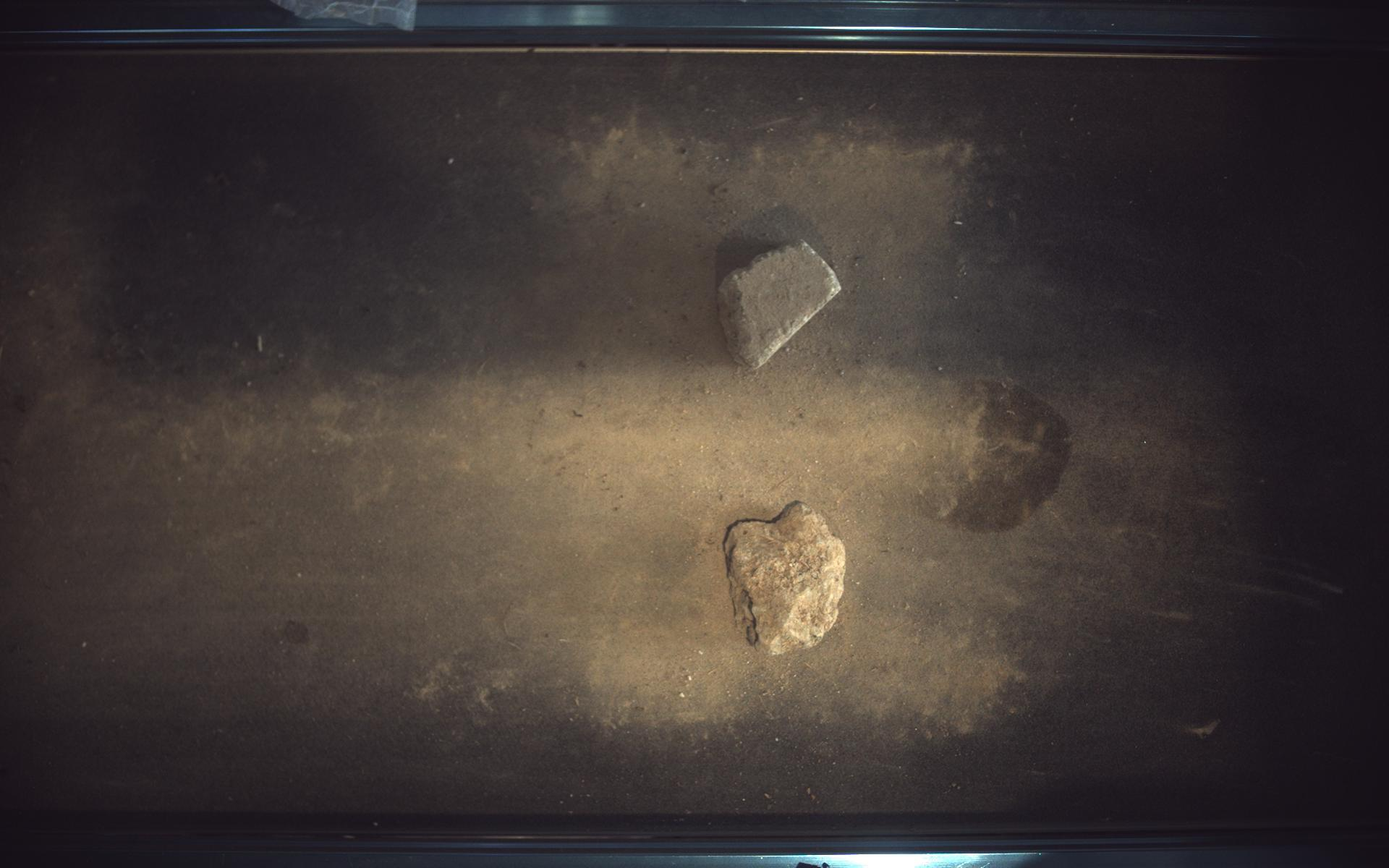stone: (724, 502, 846, 656), (719, 242, 842, 369)
